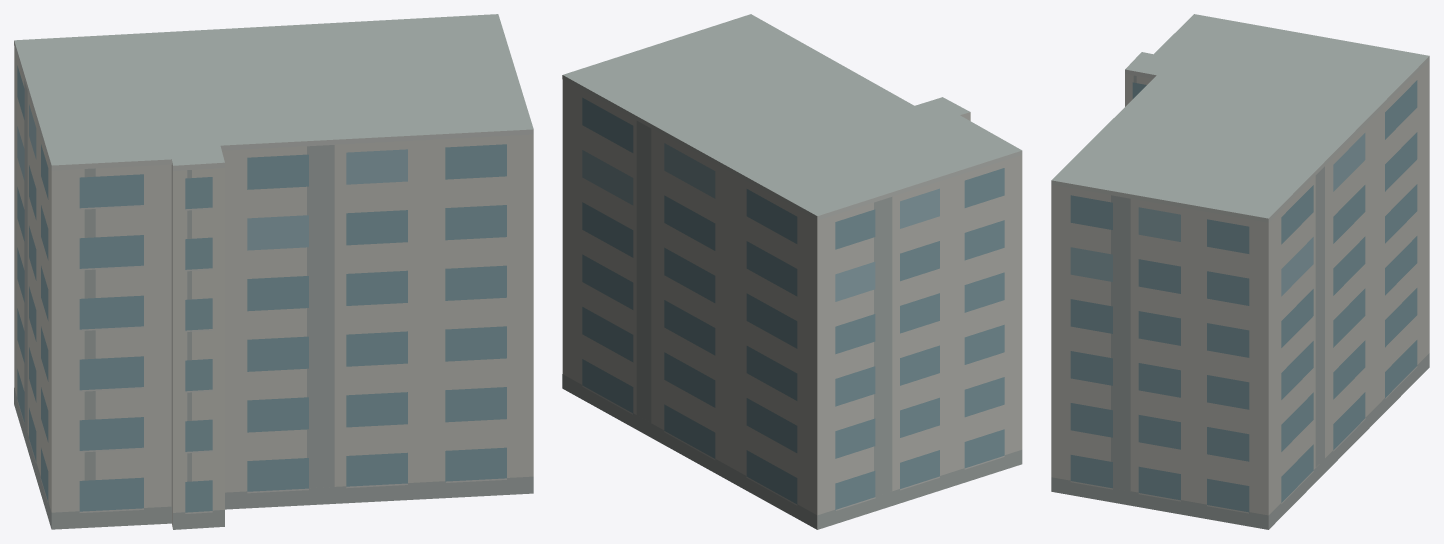
The model's file is survey-upis-32543147.glb.
The picture shows the model from 3 angles, left to right: view 1: azimuth 30°, elevation 25°; view 2: azimuth 150°, elevation 25°; view 3: azimuth 270°, elevation 25°; orthographic projection. The views are drawn at different scales.
Visible parts, largest first — view 1: survey-upis-32543147.tmp; view 2: survey-upis-32543147.tmp; view 3: survey-upis-32543147.tmp.
Boxes of the visible parts, <box> form: survey-upis-32543147.tmp: <box>14,14,533,529</box>; survey-upis-32543147.tmp: <box>562,14,1022,529</box>; survey-upis-32543147.tmp: <box>1051,14,1429,529</box>.
Size of the model in its own units: 24.25 by 17.2 by 18.96.
